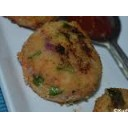cutlet: (22, 21, 103, 100), (98, 89, 128, 115)
